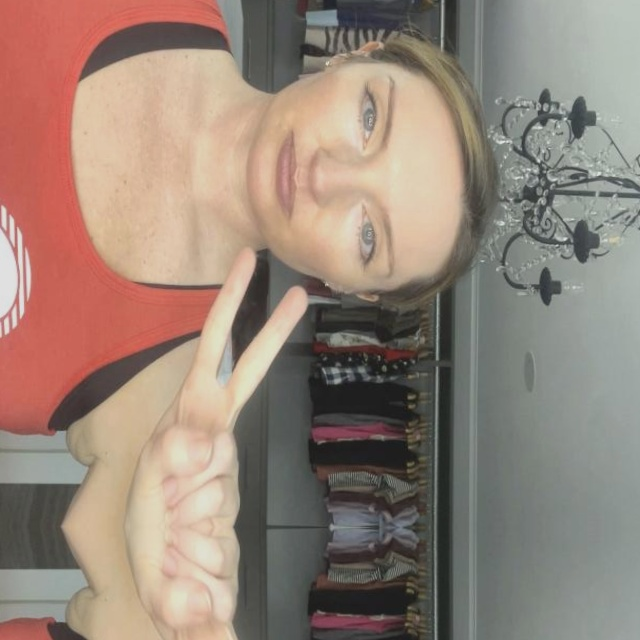Scissors: (123, 248, 309, 528)
